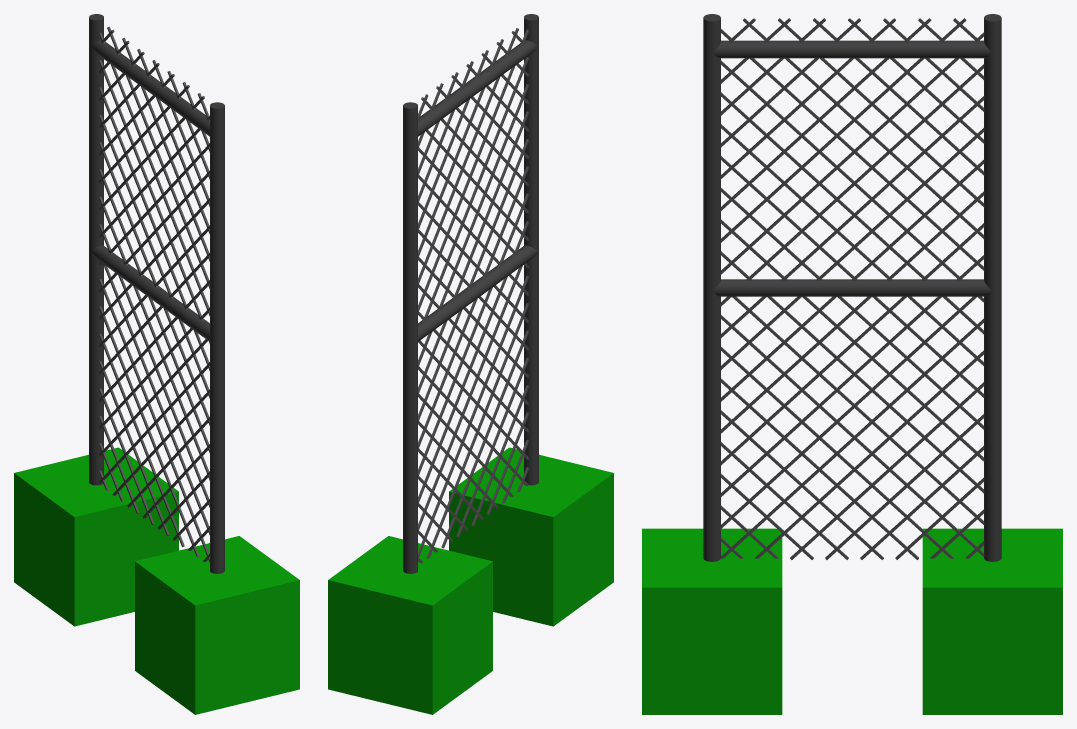
Rendered from FenceMeshShort.obj.
3 views of the same model, side by side, from view 1: azimuth 30°, elevation 25°; view 2: azimuth 150°, elevation 25°; view 3: azimuth 270°, elevation 25° (orthographic). The views are drawn at different scales.
Visible parts, largest first — view 1: Cube_Cube_Material.002, Cube_Cube_Material.001, Cube_Cube_Material.003; view 2: Cube_Cube_Material.002, Cube_Cube_Material.001, Cube_Cube_Material.003; view 3: Cube_Cube_Material.002, Cube_Cube_Material.001, Cube_Cube_Material.003.
Part boxes in pixels (left/top/right/bottom): Cube_Cube_Material.002: left=14, top=447, right=299, bottom=714; Cube_Cube_Material.001: left=99, top=26, right=209, bottom=562; Cube_Cube_Material.003: left=89, top=14, right=224, bottom=573; Cube_Cube_Material.002: left=328, top=447, right=613, bottom=714; Cube_Cube_Material.001: left=418, top=28, right=528, bottom=563; Cube_Cube_Material.003: left=403, top=14, right=538, bottom=573; Cube_Cube_Material.002: left=642, top=528, right=1062, bottom=714; Cube_Cube_Material.001: left=720, top=18, right=984, bottom=559; Cube_Cube_Material.003: left=703, top=14, right=1001, bottom=561.
Bounding box in the file's own units: 2 × 10.5 × 6.
